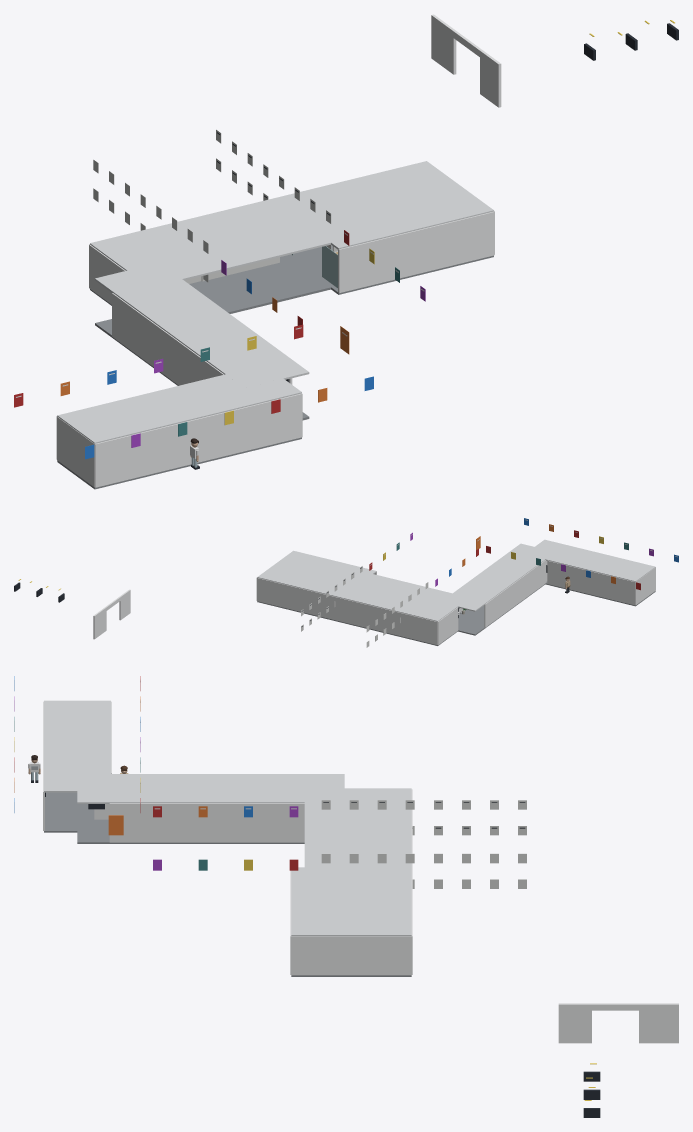
3 renders of one model, top to bottom at view 1: azimuth 30°, elevation 25°; view 2: azimuth 150°, elevation 25°; view 3: azimuth 270°, elevation 25°, orthographic. The views are drawn at different scales.
Visible parts, largest first — view 1: S02_ceiling, reception_ceiling, B_ceiling, A_wall_south, A_ceiling, S02_south_wall, S01_floor_reception, B_wall_west, A_back_wall, doorway_right_jamb, S02_floor, doorway_left_jamb (+1 smaller); view 2: S02_ceiling, reception_ceiling, B_ceiling, reception_logo_wall, A_ceiling, A_wall_north, S02_north_wall, B_wall_west, S01_floor_corridor_B, reception_west_wall, A_back_wall, doorway_right_jamb (+1 smaller); view 3: S02_ceiling, B_ceiling, reception_ceiling, B_wall_east, A_ceiling, S02_far_wall, S01_floor_corridor_A, doorway_right_jamb, doorway_left_jamb, S01_floor_corridor_B.
Part boxes in pixels (<box>): S02_ceiling: <box>272,161,493,249</box>; reception_ceiling: <box>90,199,330,280</box>; B_ceiling: <box>95,262,309,387</box>; A_wall_south: <box>94,393,302,487</box>; A_ceiling: <box>57,374,301,443</box>; S02_south_wall: <box>338,211,494,293</box>; S01_floor_reception: <box>90,255,330,313</box>; B_wall_west: <box>112,293,223,385</box>; A_back_wall: <box>57,416,94,487</box>; doorway_right_jamb: <box>431,14,456,74</box>; S02_floor: <box>288,245,493,294</box>; doorway_left_jamb: <box>480,51,501,107</box>; S02_ceiling: <box>257,550,376,597</box>; reception_ceiling: <box>340,574,457,621</box>; B_ceiling: <box>441,543,554,611</box>; reception_logo_wall: <box>340,598,437,644</box>; A_ceiling: <box>535,539,655,581</box>; A_wall_north: <box>547,560,635,605</box>; S02_north_wall: <box>257,578,340,621</box>; B_wall_west: <box>484,560,546,627</box>; S01_floor_corridor_B: <box>458,584,545,635</box>; reception_west_wall: <box>438,607,458,644</box>; A_back_wall: <box>635,567,655,604</box>; doorway_right_jamb: <box>93,608,106,639</box>; S02_ceiling: <box>291,867,411,936</box>; B_ceiling: <box>77,774,344,803</box>; reception_ceiling: <box>304,788,411,867</box>; B_wall_east: <box>109,803,304,842</box>; A_ceiling: <box>44,700,110,792</box>; S02_far_wall: <box>291,936,411,975</box>; S01_floor_corridor_A: <box>44,792,108,832</box>; doorway_right_jamb: <box>639,1003,678,1043</box>; doorway_left_jamb: <box>558,1003,591,1043</box>; S01_floor_corridor_B: <box>77,831,304,843</box>.
Size of the model in its own units: 70.45 by 4.91 by 49.74.
